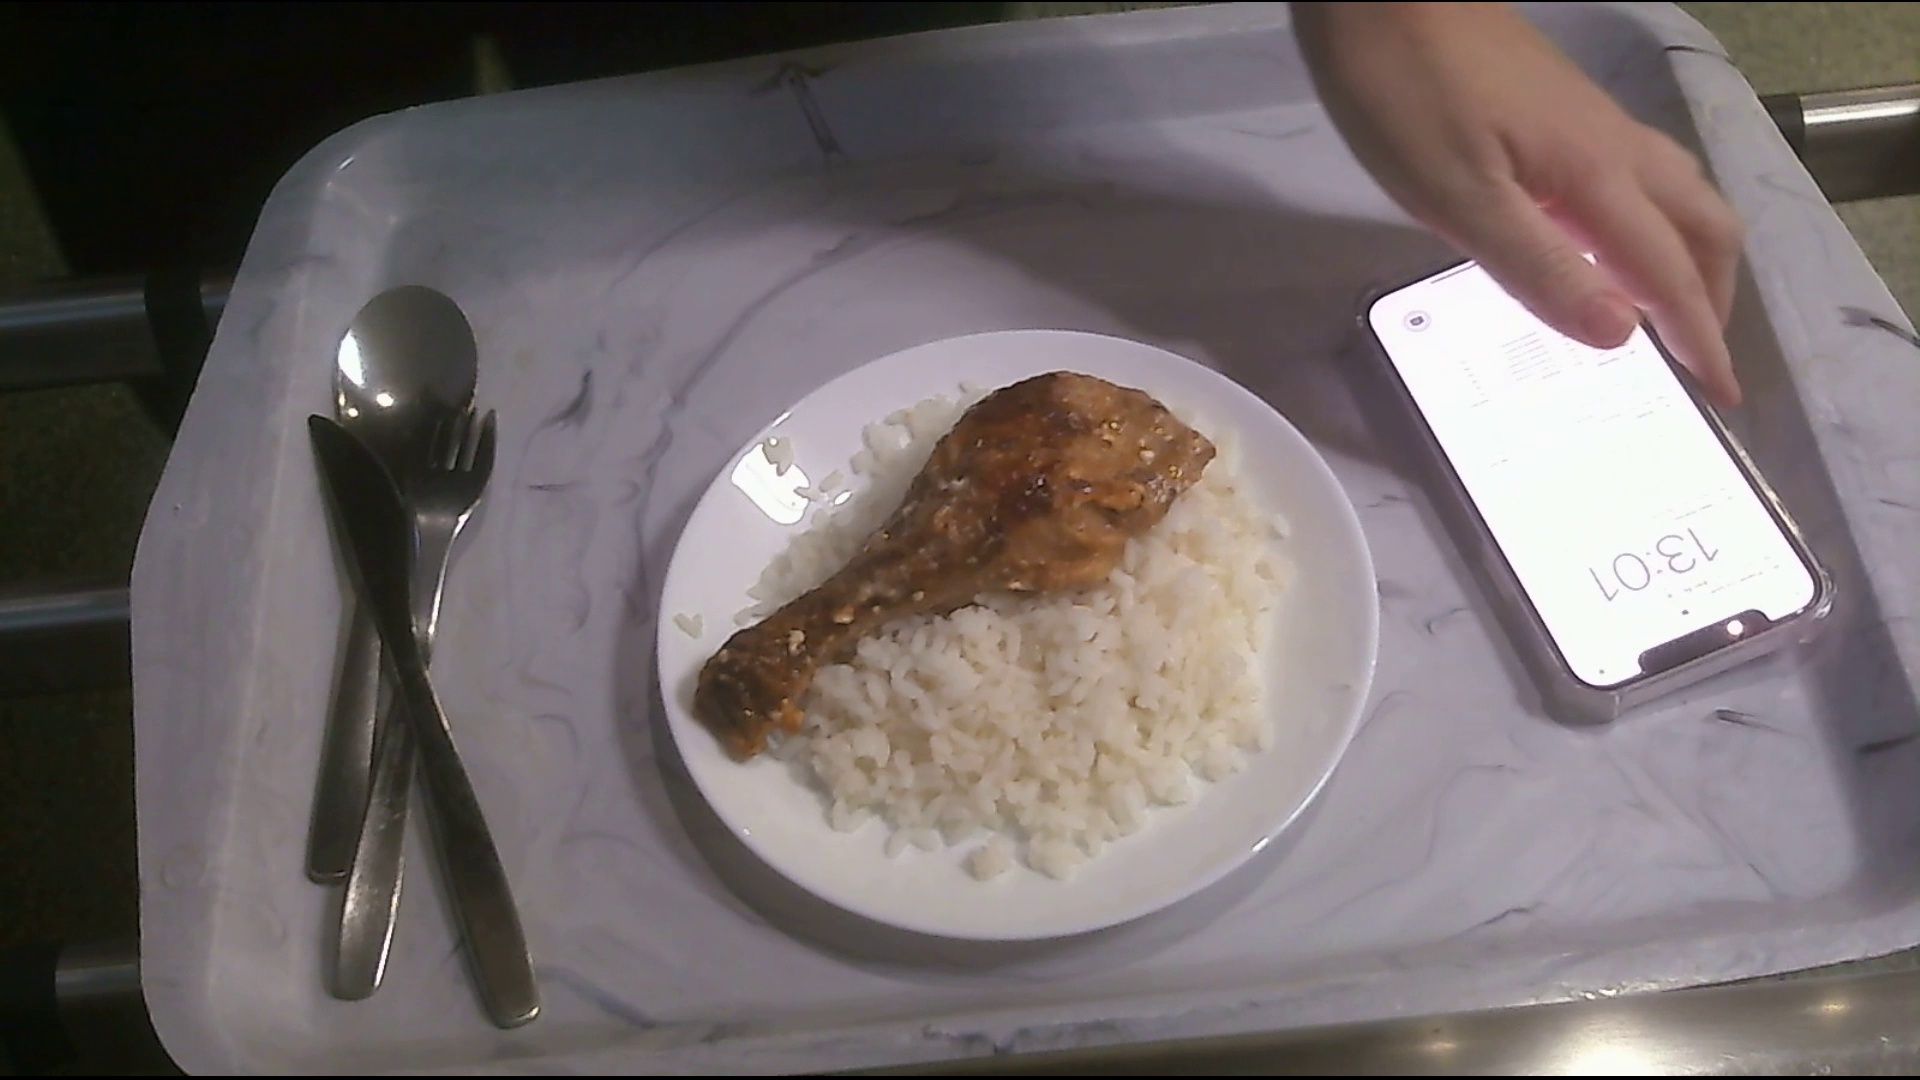cutlery: (295, 280, 558, 1029)
other: (1360, 235, 1842, 720)
plate: (673, 327, 1370, 939)
